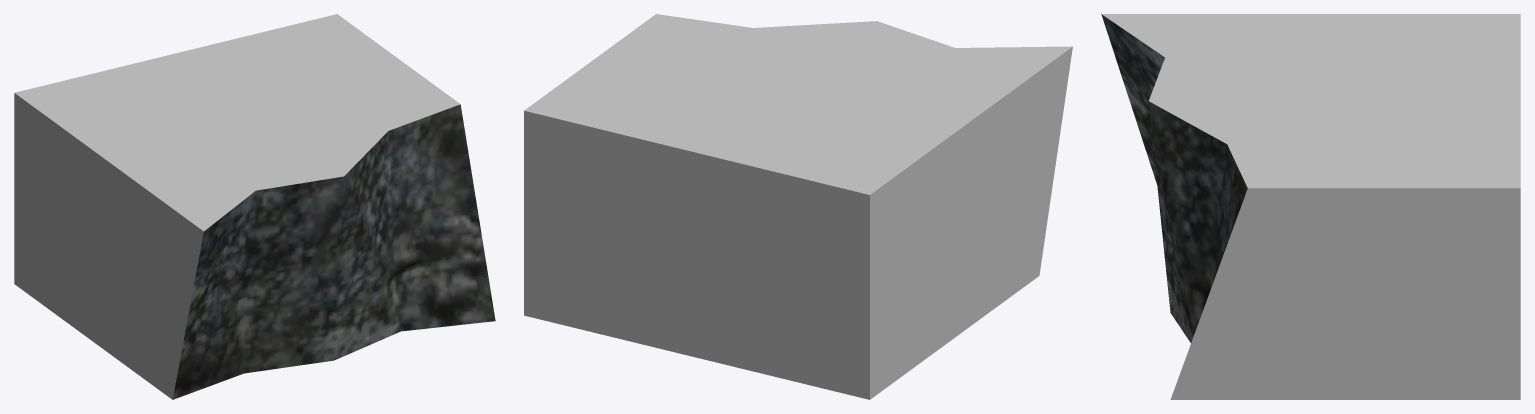
Rendered from brick_broken.dae.
3 views of the same model, side by side, from view 1: azimuth 30°, elevation 25°; view 2: azimuth 150°, elevation 25°; view 3: azimuth 270°, elevation 25° (orthographic). The views are drawn at different scales.
Visible parts, largest first — view 1: polySurface1, polySurface6; view 2: polySurface1; view 3: polySurface1, polySurface6.
Boxes of the visible parts, <box> form: polySurface1: <box>14,14,460,399</box>; polySurface6: <box>172,104,495,399</box>; polySurface1: <box>524,14,1072,399</box>; polySurface1: <box>1102,14,1520,399</box>; polySurface6: <box>1101,14,1247,342</box>.
Size of the model in its own units: 0.3682 by 0.2084 by 0.3744.
